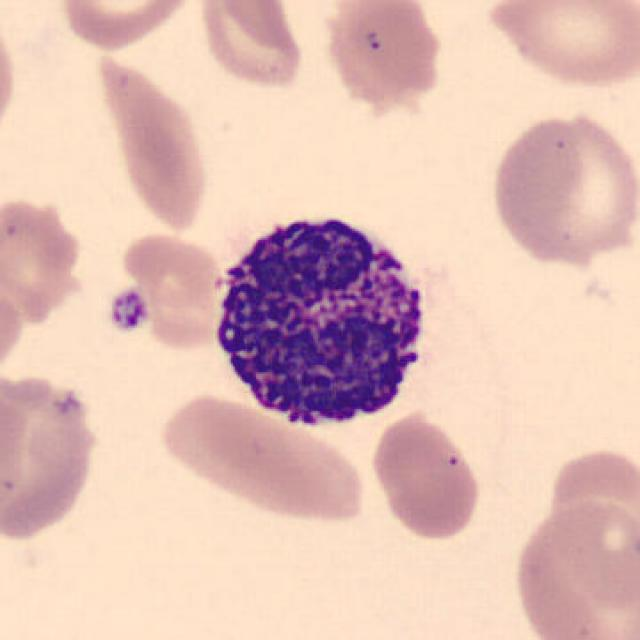Basophil: (199, 195, 443, 442)
Platelets: (103, 286, 151, 335)
RBC: (150, 386, 372, 527), (486, 108, 638, 270), (91, 46, 213, 240), (0, 365, 105, 545), (508, 495, 638, 640), (368, 407, 485, 545), (547, 444, 640, 604), (120, 232, 240, 356), (318, 0, 448, 113), (480, 0, 638, 92), (0, 188, 87, 329), (193, 0, 309, 93), (55, 0, 199, 51), (0, 2, 23, 152), (0, 276, 28, 382)
